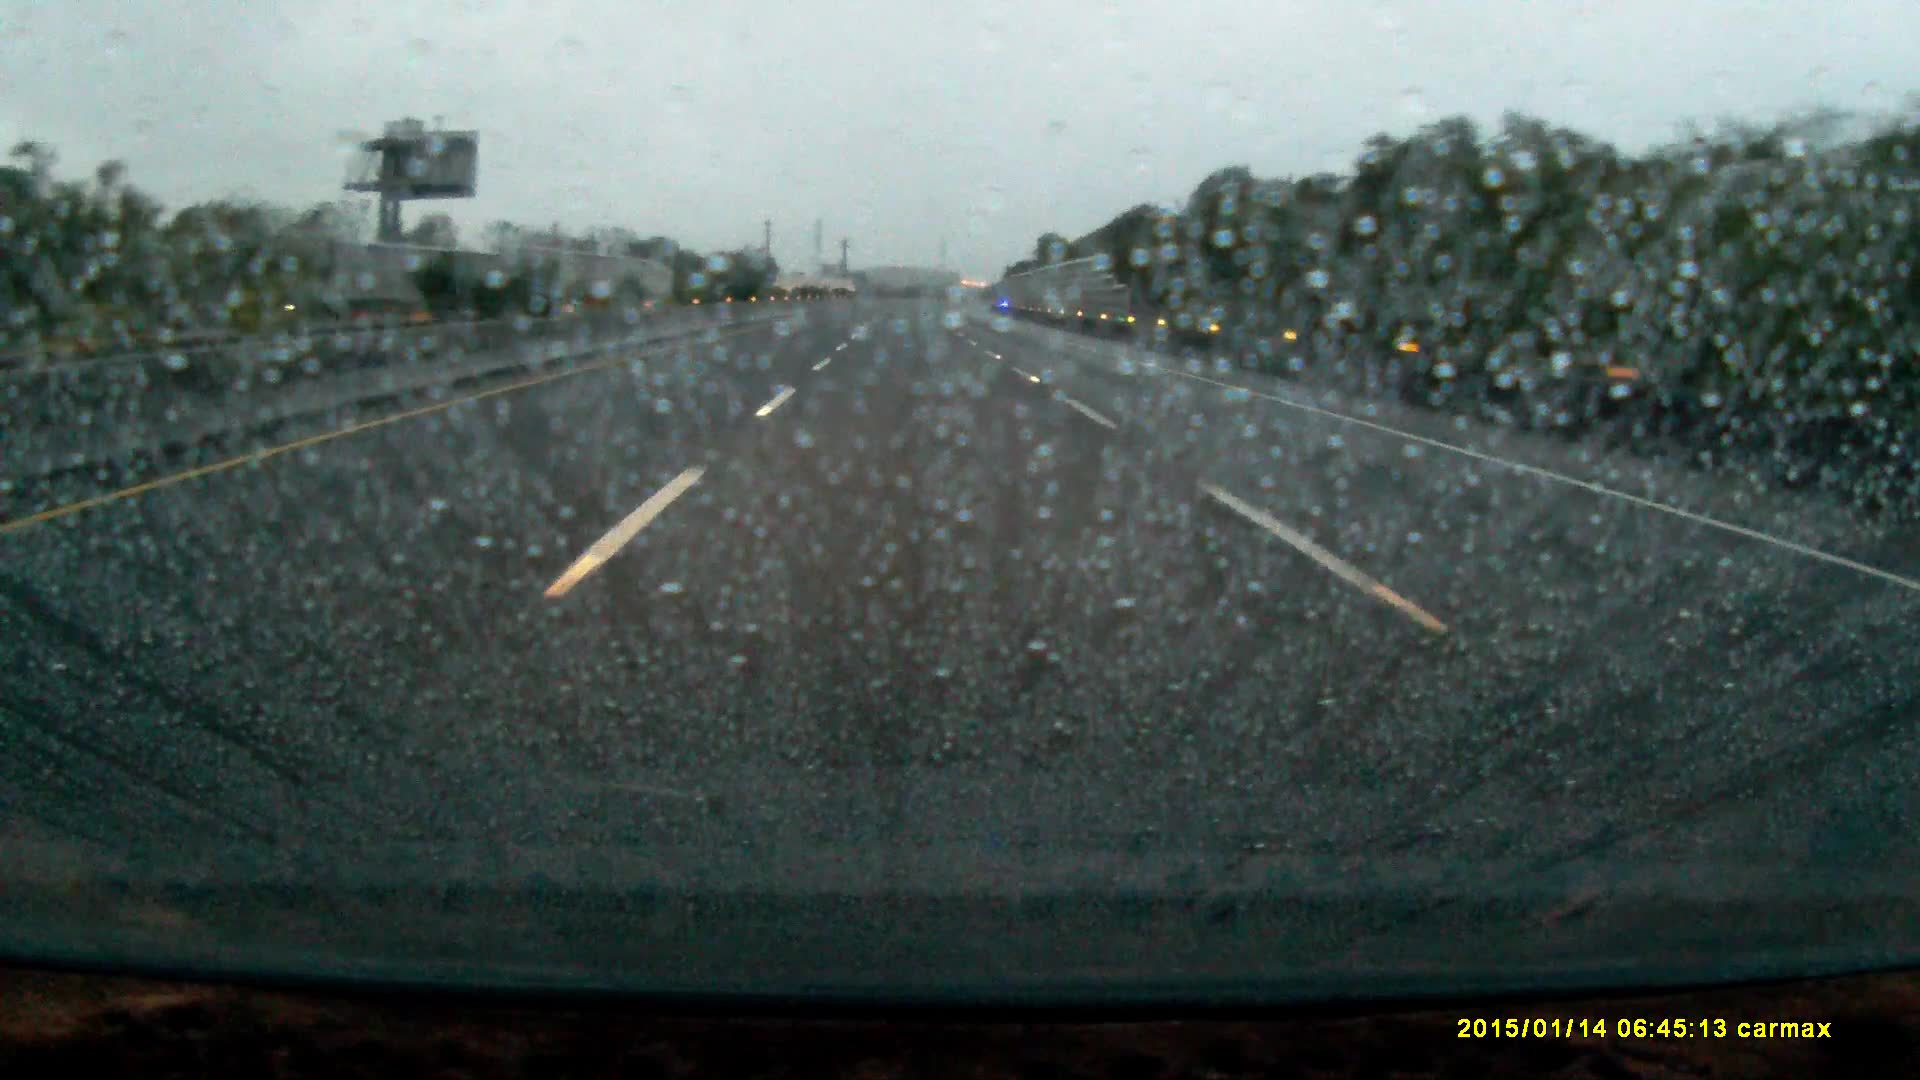vehicle: (218, 278, 360, 324)
